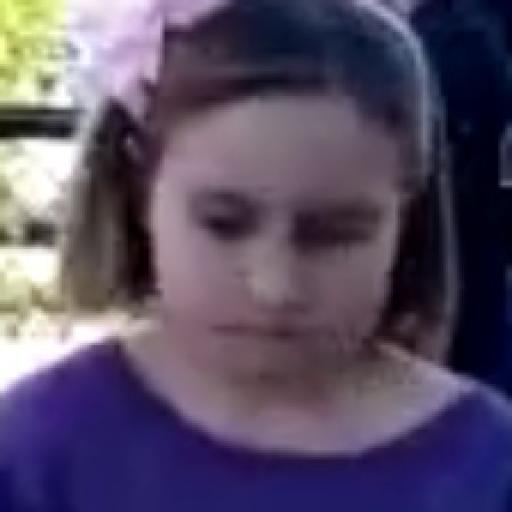Autism: (68, 0, 484, 443)
